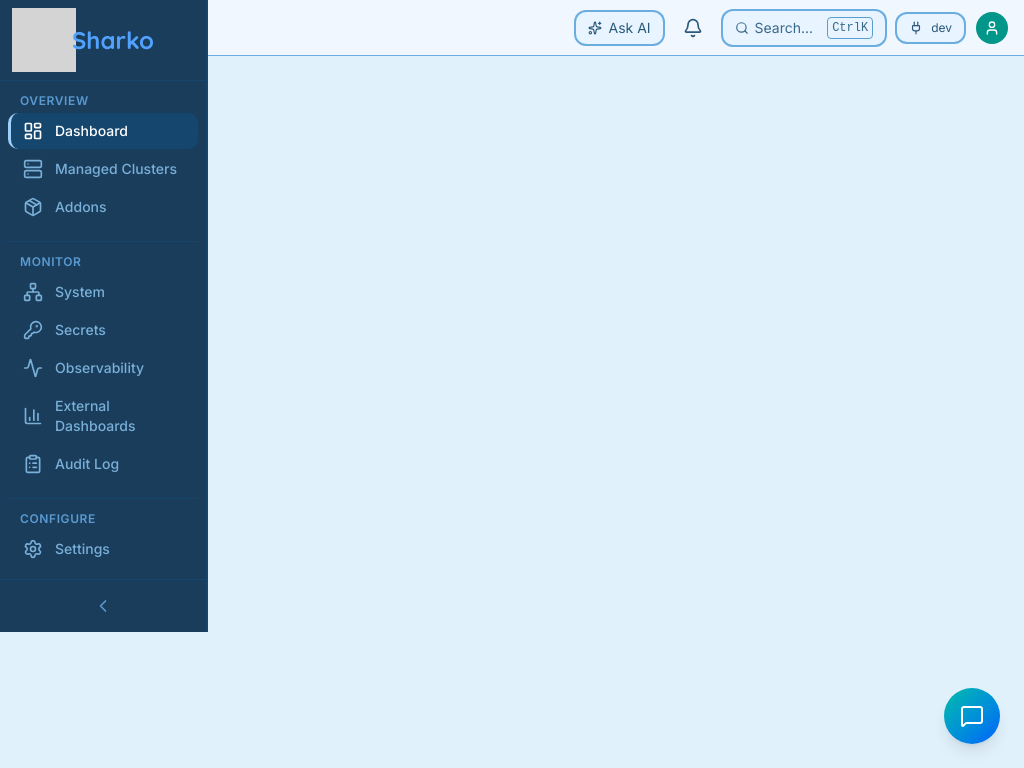
Layout › AI assistant opt-in gate › opens the assistant panel from the Ask AI toggle when configured
What coordinates should you click on to do the following:
click the button with aria-label "Toggle AI Assistant"
I would click on:
 (620, 28)
Its box is [576, 12, 663, 44].
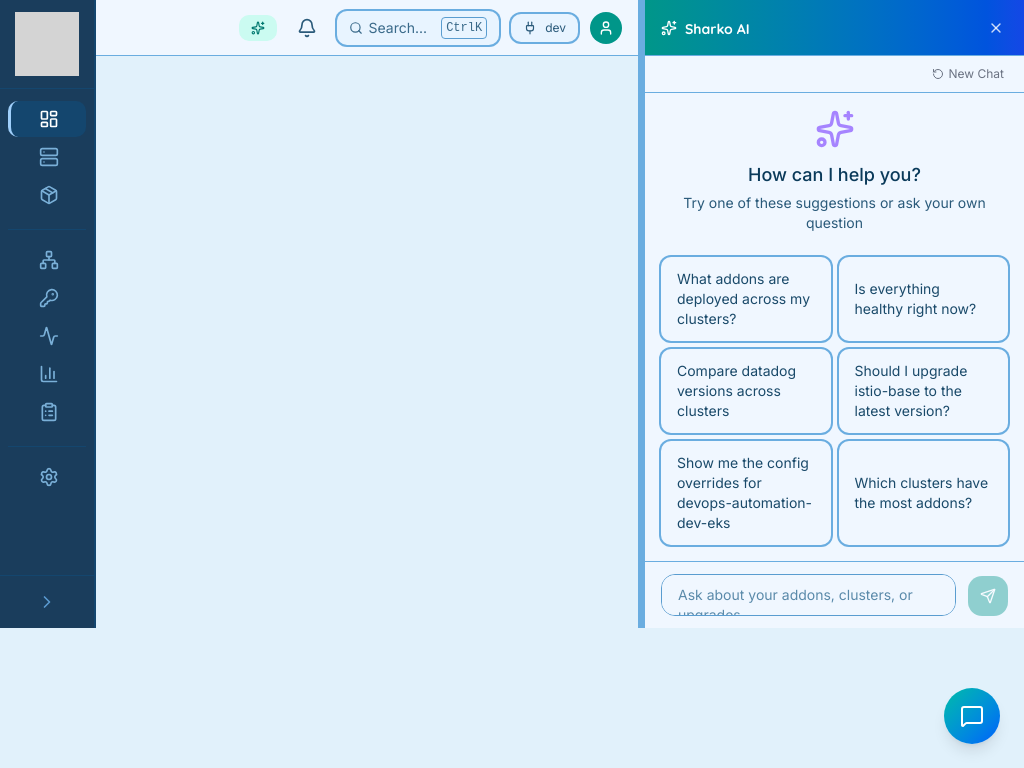
Expected: the text "Sharko AI" is shown, [685, 20, 750, 38]
